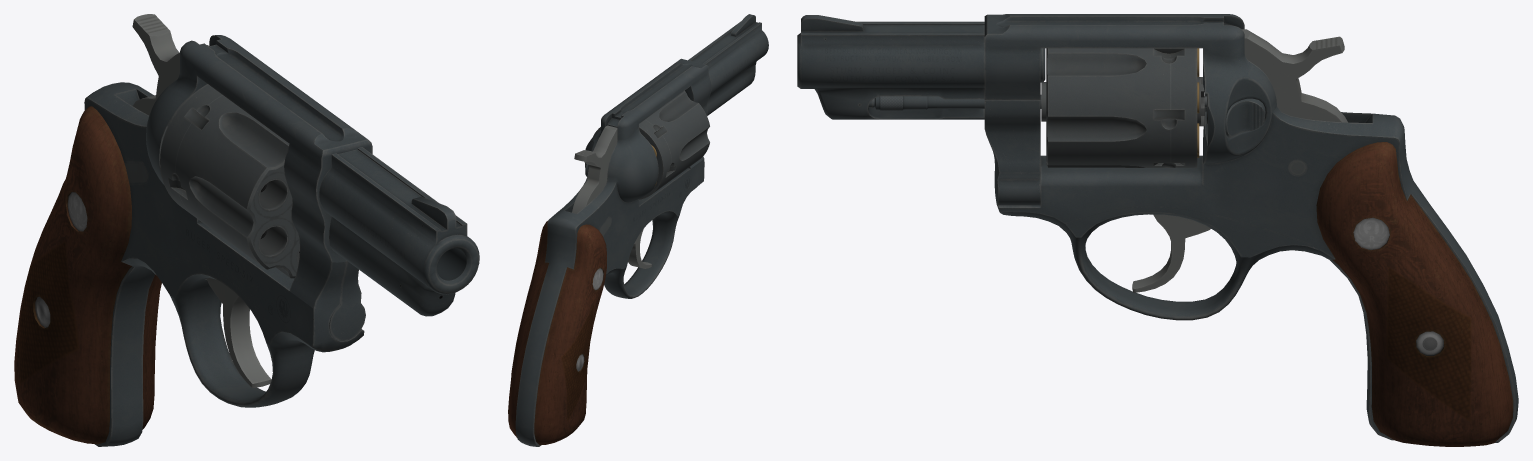
The model's file is revolver.glb.
3 views of the same model, side by side, from view 1: azimuth 30°, elevation 25°; view 2: azimuth 150°, elevation 25°; view 3: azimuth 270°, elevation 25° (orthographic). The views are drawn at different scales.
Parts seen in each view (by area): view 1: Base, Grip, Magazine, Trigger, Hammer, Arm; view 2: Base, Grip, Magazine, Hammer, Trigger; view 3: Base, Grip, Magazine, Arm, Hammer, Trigger, Axis, Switch.
Boxes of the visible parts, x1,y1,x2,y2 form: Base: [84, 35, 479, 446]; Grip: [14, 106, 161, 444]; Magazine: [160, 84, 299, 278]; Trigger: [206, 278, 271, 388]; Hammer: [132, 14, 208, 115]; Arm: [329, 261, 365, 340]; Base: [515, 14, 768, 446]; Grip: [508, 221, 606, 445]; Magazine: [593, 91, 709, 199]; Hammer: [572, 125, 617, 213]; Trigger: [628, 229, 652, 268]; Base: [797, 14, 1518, 442]; Grip: [1316, 142, 1513, 446]; Magazine: [1041, 48, 1204, 167]; Arm: [984, 100, 1040, 205]; Hammer: [1242, 29, 1347, 122]; Trigger: [1132, 214, 1210, 292]; Axis: [874, 95, 1206, 110]; Switch: [1225, 98, 1265, 136].
Size of the model in its own units: 0.0471 by 0.1647 by 0.256.
Materials: 4 (4 with a texture image).
